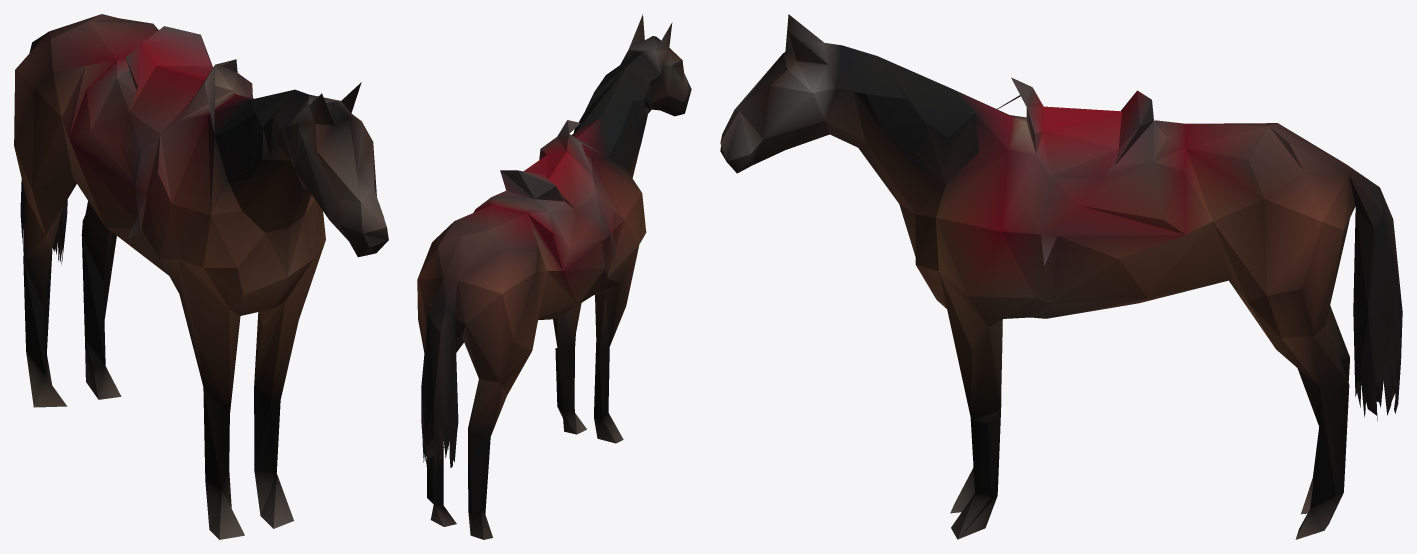
The model's file is R_horse_far.glb.
3 views of the same model, side by side, from view 1: azimuth 30°, elevation 25°; view 2: azimuth 150°, elevation 25°; view 3: azimuth 270°, elevation 25° (orthographic). The views are drawn at different scales.
Parts seen in each view (by area): view 1: Mesh_0; view 2: Mesh_0; view 3: Mesh_0.
Boxes of the visible parts, bbox=[...] form: Mesh_0: bbox=[14, 14, 388, 539]; Mesh_0: bbox=[417, 14, 691, 539]; Mesh_0: bbox=[720, 14, 1402, 539].
Size of the model in its own units: 0.4866 by 1.52 by 1.88.
